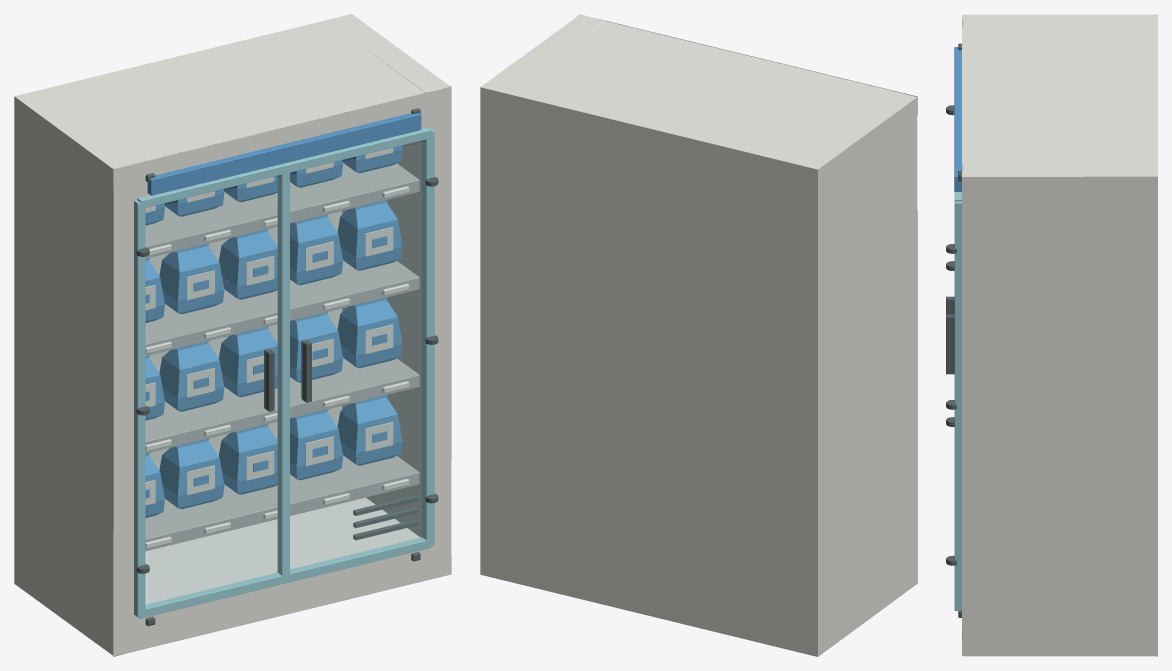
Rendered from Freezer_FrozenFood.fbx.
3 views of the same model, side by side, from view 1: azimuth 30°, elevation 25°; view 2: azimuth 150°, elevation 25°; view 3: azimuth 270°, elevation 25° (orthographic).
Parts seen in each view (by area): view 1: Freezer_FrozenFood__LPCXFER, Freezer_FrozenFood_Item_05_bag__LPCXFER, Freezer_FrozenFood_Item_07_bag__LPCXFER, Freezer_FrozenFood_Item_15_bag__LPCXFER, Freezer_FrozenFood_Item_02_bag__LPCXFER, Freezer_FrozenFood_Item_12_bag__LPCXFER, Freezer_FrozenFood_Item_10_bag__LPCXFER, Freezer_FrozenFood_Item_13_bag__LPCXFER, Freezer_FrozenFood_Item_03_bag__LPCXFER, Freezer_FrozenFood_Item_14_bag__LPCXFER, Freezer_FrozenFood_Item_04_bag__LPCXFER, Freezer_FrozenFood_Item_08_bag__LPCXFER (+8 smaller); view 2: Freezer_FrozenFood__LPCXFER; view 3: Freezer_FrozenFood__LPCXFER.
Part boxes in pixels (box(x1,y1,x2,y2)): Freezer_FrozenFood__LPCXFER: box(14, 14, 451, 656); Freezer_FrozenFood_Item_05_bag__LPCXFER: box(337, 395, 402, 465); Freezer_FrozenFood_Item_07_bag__LPCXFER: box(159, 341, 224, 411); Freezer_FrozenFood_Item_15_bag__LPCXFER: box(337, 200, 402, 270); Freezer_FrozenFood_Item_02_bag__LPCXFER: box(159, 438, 224, 509); Freezer_FrozenFood_Item_12_bag__LPCXFER: box(159, 243, 224, 314); Freezer_FrozenFood_Item_10_bag__LPCXFER: box(337, 297, 402, 368); Freezer_FrozenFood_Item_13_bag__LPCXFER: box(218, 229, 277, 299); Freezer_FrozenFood_Item_03_bag__LPCXFER: box(218, 424, 277, 494); Freezer_FrozenFood_Item_14_bag__LPCXFER: box(290, 214, 342, 285); Freezer_FrozenFood_Item_04_bag__LPCXFER: box(290, 409, 342, 480); Freezer_FrozenFood_Item_08_bag__LPCXFER: box(218, 326, 277, 397); Freezer_FrozenFood__LPCXFER: box(480, 14, 917, 656); Freezer_FrozenFood__LPCXFER: box(946, 14, 1157, 656).
Bounding box in the file's own units: 145 × 200 × 80.
